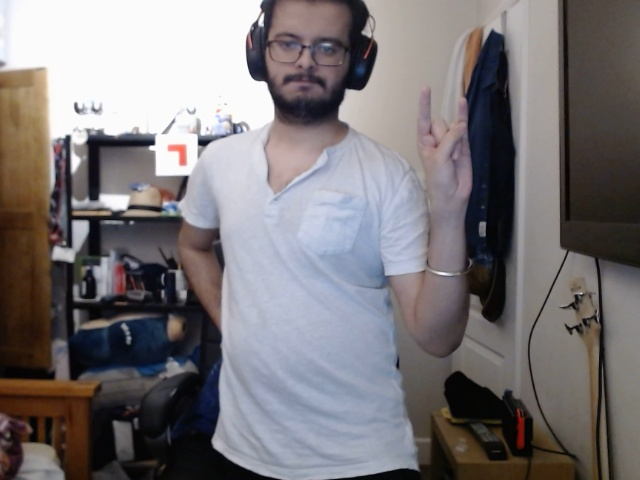Rock on: (411, 83, 485, 221)
